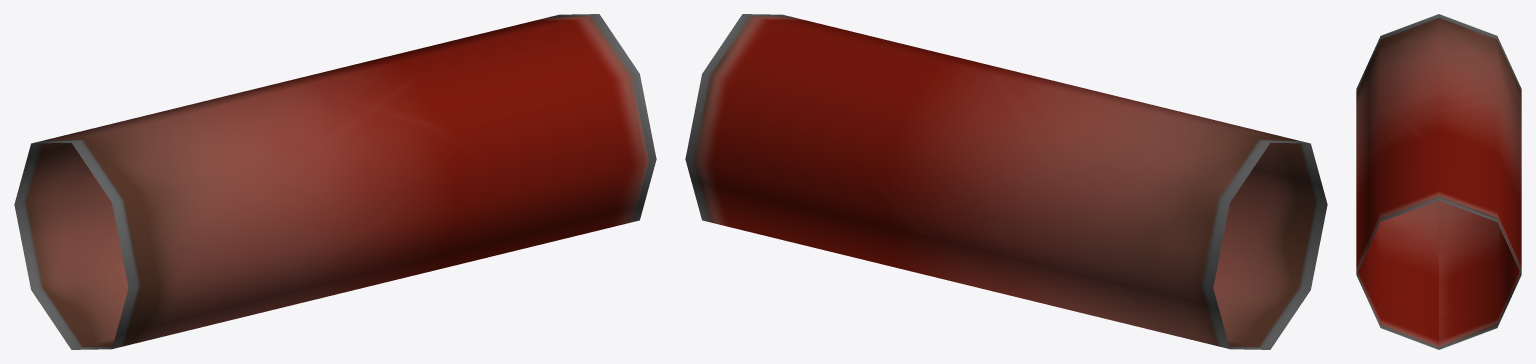
Rendered from pipe01_str_32a_low.fbx.
3 renders of one model, left to right at view 1: azimuth 30°, elevation 25°; view 2: azimuth 150°, elevation 25°; view 3: azimuth 270°, elevation 25°, orthographic. The views are drawn at different scales.
Visible parts, largest first — view 1: pipe01_str_32a_low; view 2: pipe01_str_32a_low; view 3: pipe01_str_32a_low.
Boxes of the visible parts, x1=… form: pipe01_str_32a_low: x1=14, y1=14, x2=656, y2=349; pipe01_str_32a_low: x1=685, y1=14, x2=1327, y2=349; pipe01_str_32a_low: x1=1356, y1=14, x2=1521, y2=349.
Bounding box in the file's own units: 32 × 12 × 12.
